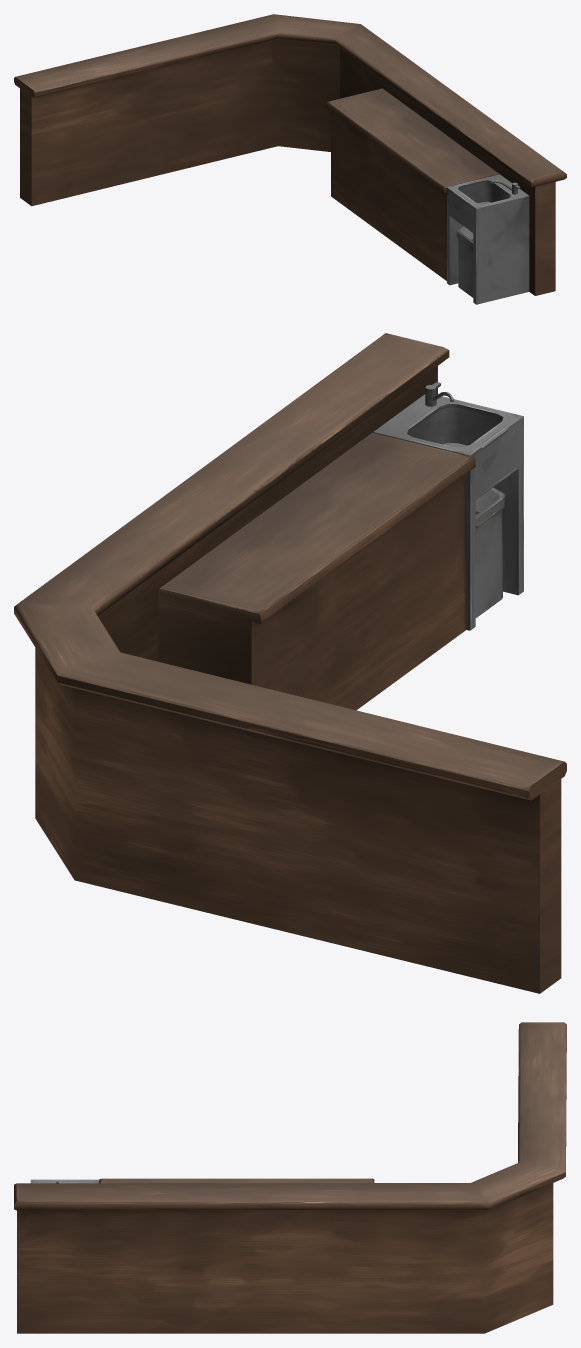
The model's file is BarCounter_v3.fbx.
3 views of the same model, one above another, from view 1: azimuth 30°, elevation 25°; view 2: azimuth 150°, elevation 25°; view 3: azimuth 270°, elevation 25° (orthographic). The views are drawn at different scales.
Parts seen in each view (by area): view 1: Cube.030; view 2: Cube.030; view 3: Cube.030.
Boxes of the visible parts, left/top/right/bottom form: Cube.030: left=14, top=14, right=566, bottom=304; Cube.030: left=14, top=333, right=566, bottom=993; Cube.030: left=14, top=1022, right=566, bottom=1333.
Bounding box in the file's own units: 310 × 110 × 402.
